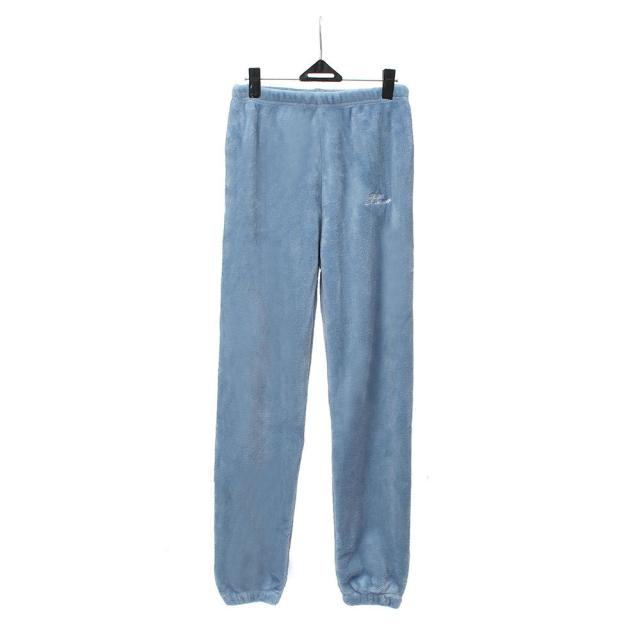pants: (210, 77, 422, 614)
